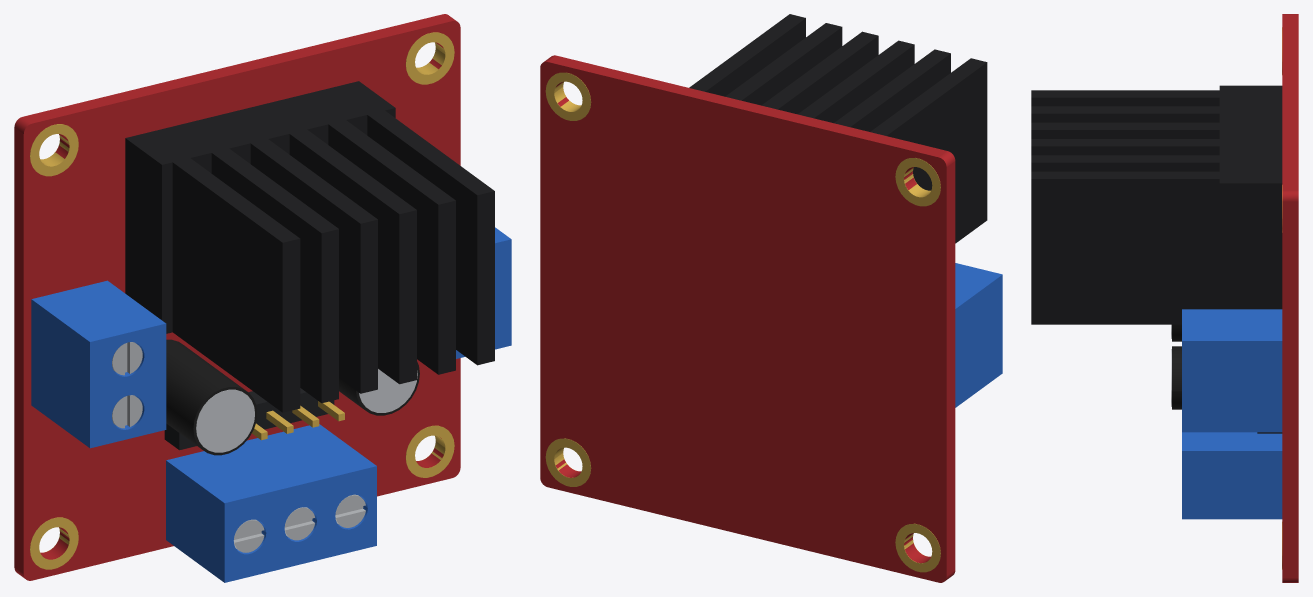
The model's file is l298n-mod-bb.glb.
3 renders of one model, left to right at view 1: azimuth 30°, elevation 25°; view 2: azimuth 150°, elevation 25°; view 3: azimuth 270°, elevation 25°, orthographic. The views are drawn at different scales.
Parts seen in each view (by area): view 1: heatsink_1, board, terminal_4, terminal_2, elcap_6, elcap_6_top, terminal_4_screws, terminal_3, hole_4, terminal_2_screws, hole_3, header_5 (+4 smaller); view 2: board, heatsink_1, terminal_2, hole_4, hole_3, hole_2, hole_1; view 3: heatsink_1, terminal_3, board, terminal_4, elcap_7.
Part boxes in pixels (box(x1,y1,x2,y2)): heatsink_1: box(125, 81, 494, 412); board: box(14, 14, 460, 580); terminal_4: box(166, 424, 376, 582); terminal_2: box(31, 280, 166, 448); elcap_6: box(166, 339, 257, 455); elcap_6_top: box(196, 389, 254, 452); terminal_4_screws: box(233, 494, 365, 552); terminal_3: box(456, 227, 511, 358); hole_4: box(405, 32, 454, 84); terminal_2_screws: box(112, 342, 142, 428); hole_3: box(30, 124, 78, 176); header_5: box(164, 388, 334, 450); board: box(540, 55, 955, 582); heatsink_1: box(689, 14, 987, 243); terminal_2: box(955, 263, 1002, 407); hole_4: box(545, 72, 591, 120); hole_3: box(895, 158, 940, 206); hole_2: box(545, 438, 591, 486); hole_1: box(895, 523, 940, 572); heatsink_1: box(1031, 85, 1282, 324); terminal_3: box(1182, 309, 1282, 432); board: box(1282, 14, 1298, 582); terminal_4: box(1182, 432, 1282, 519); elcap_7: box(1172, 346, 1181, 409).
Size of the model in its own units: 43 by 43 by 26.63.
